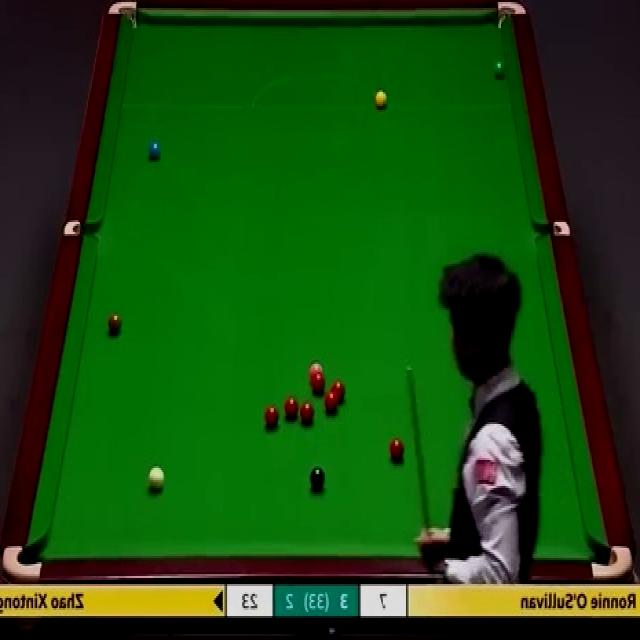pocket: (588, 543, 635, 582), (3, 543, 45, 582), (108, 0, 140, 32), (493, 0, 528, 29), (63, 218, 100, 237), (538, 218, 574, 237)
